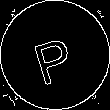P_N: (30, 25, 80, 85)
